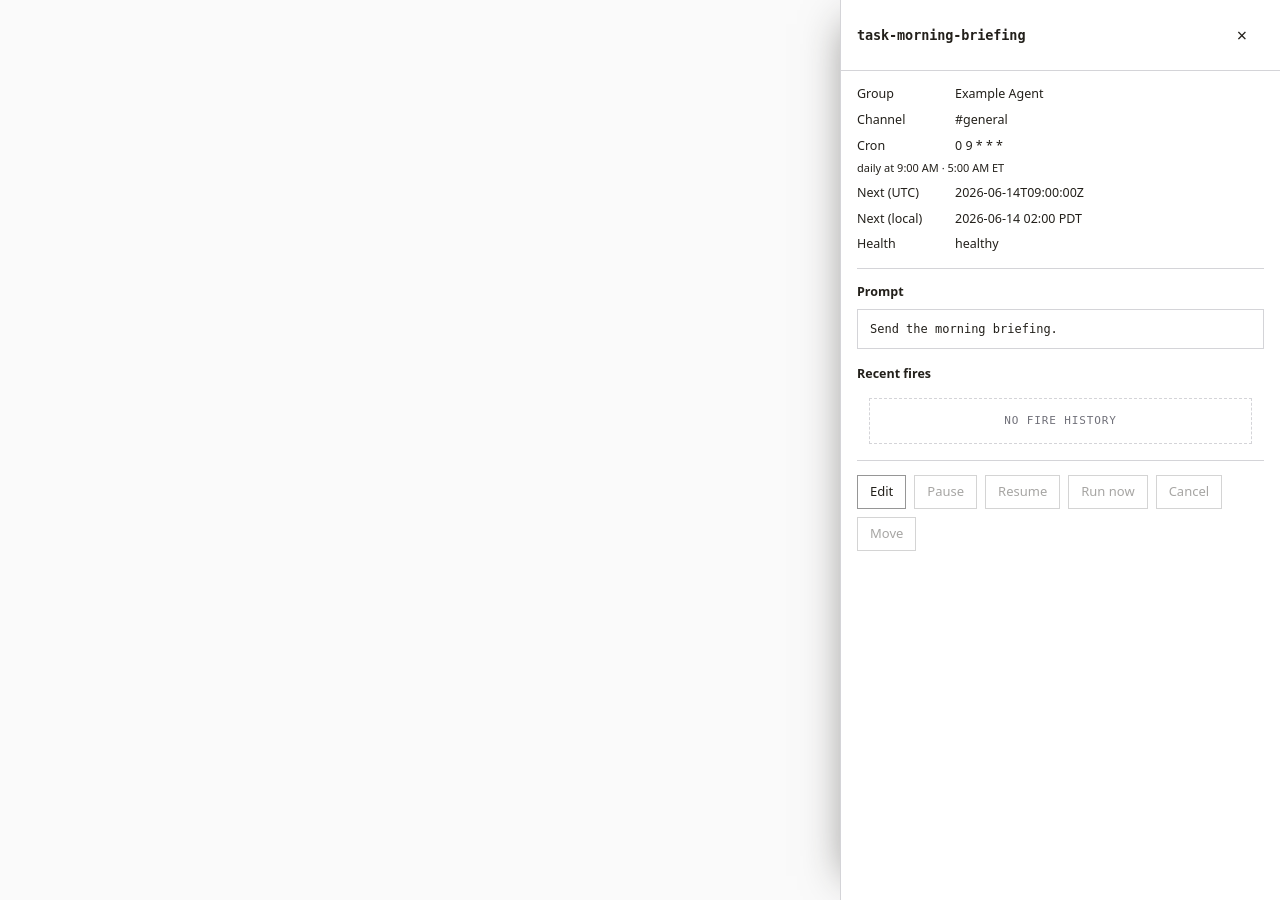
it: ScheduledDrawer › clicking Edit scrolls the edit panel into view
Expected: the dialog with test id "sched-drawer" is shown, [840,0,1279,899]
Click the button "Edit": (882, 492) [857,475,906,509]
(page scrolled)
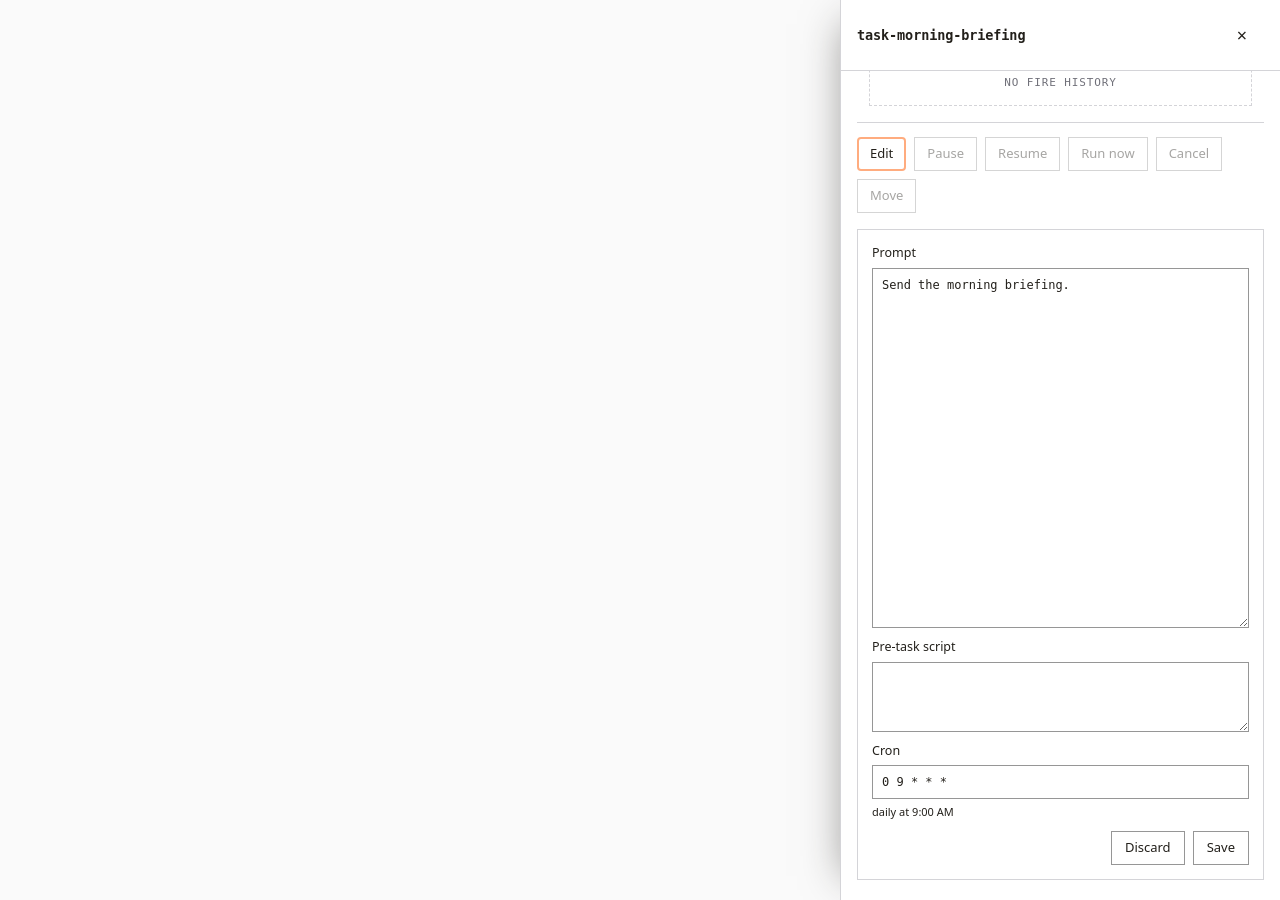
Result: the form with test id "sched-edit-form" is shown at [857,229,1264,880]
